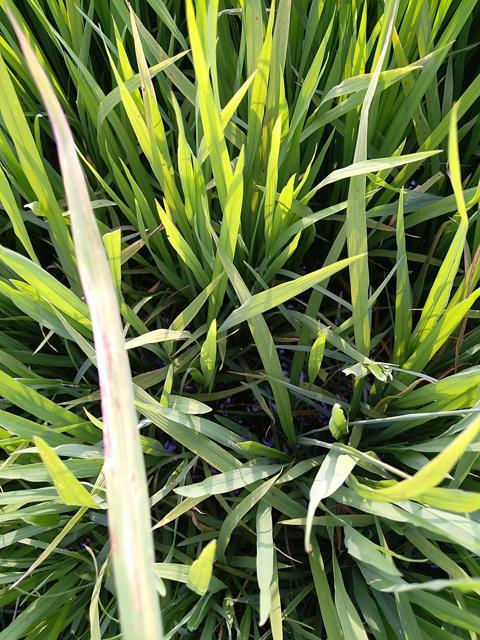Leaf Blight: (3, 5, 164, 639)
